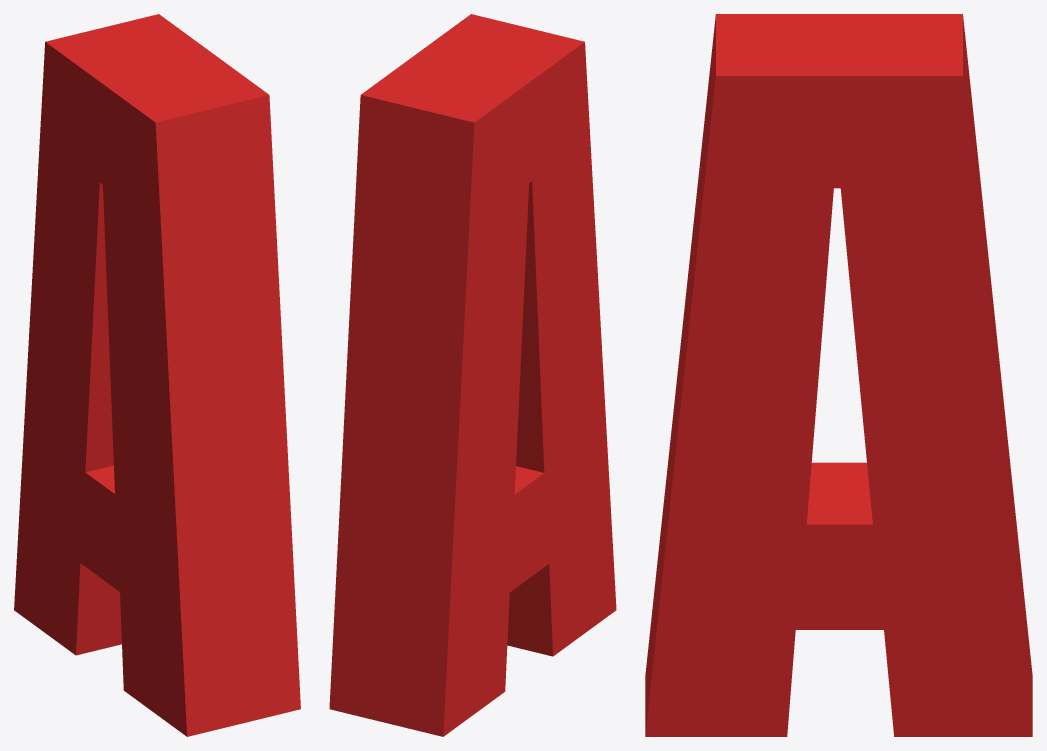
3 views of the same model, side by side, from view 1: azimuth 30°, elevation 25°; view 2: azimuth 150°, elevation 25°; view 3: azimuth 270°, elevation 25° (orthographic). The views are drawn at different scales.
Parts seen in each view (by area): view 1: A; view 2: A; view 3: A.
Boxes of the visible parts, left/top/right/bottom form: A: left=14, top=14, right=300, bottom=736; A: left=329, top=14, right=616, bottom=736; A: left=645, top=14, right=1032, bottom=736.
Size of the model in its own units: 0.1 by 0.4965 by 0.2636.
